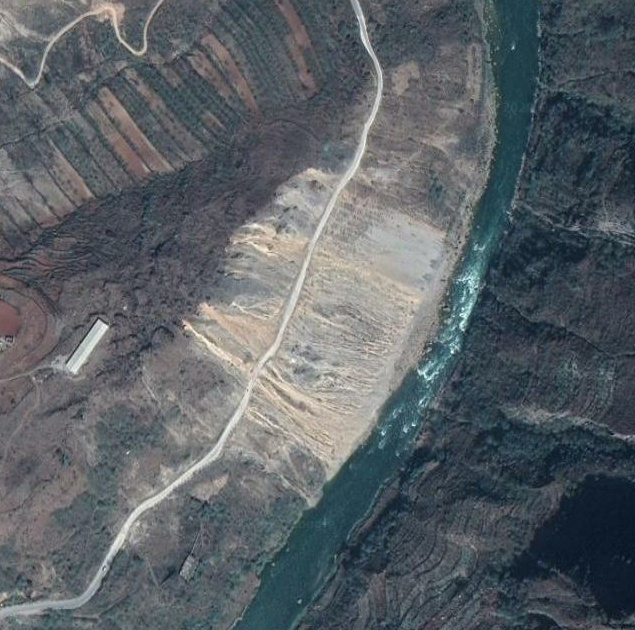slope: (196, 167, 458, 465)
